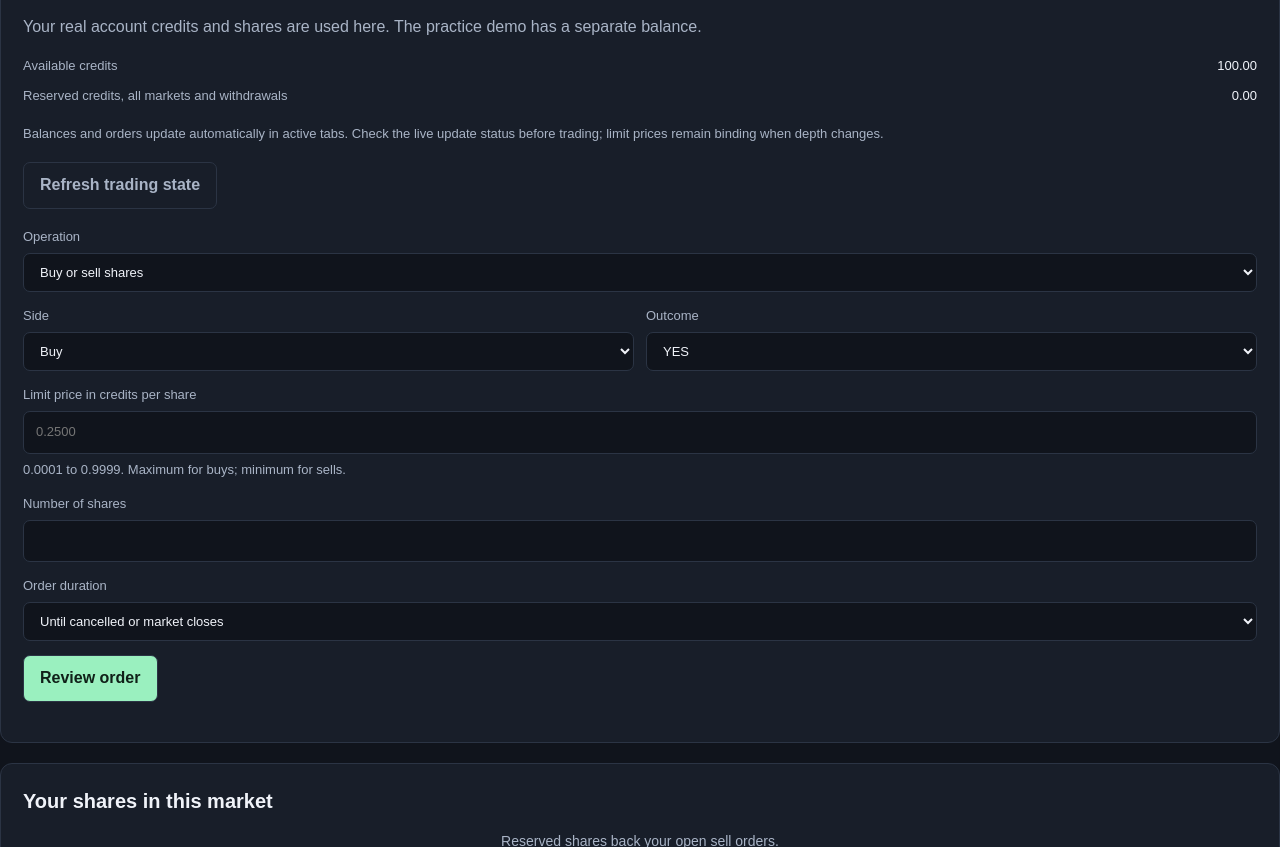
Scenario: participant trading controls › keeps the reference on auth/server/malformed responses and clears only a definite rejection
In the field: {"x": 640, "y": 432} [23,411,1257,454], type "0.2501"
In the number field labelled "Number of shares": {"x": 640, "y": 541} [23,520,1257,562], type "3"
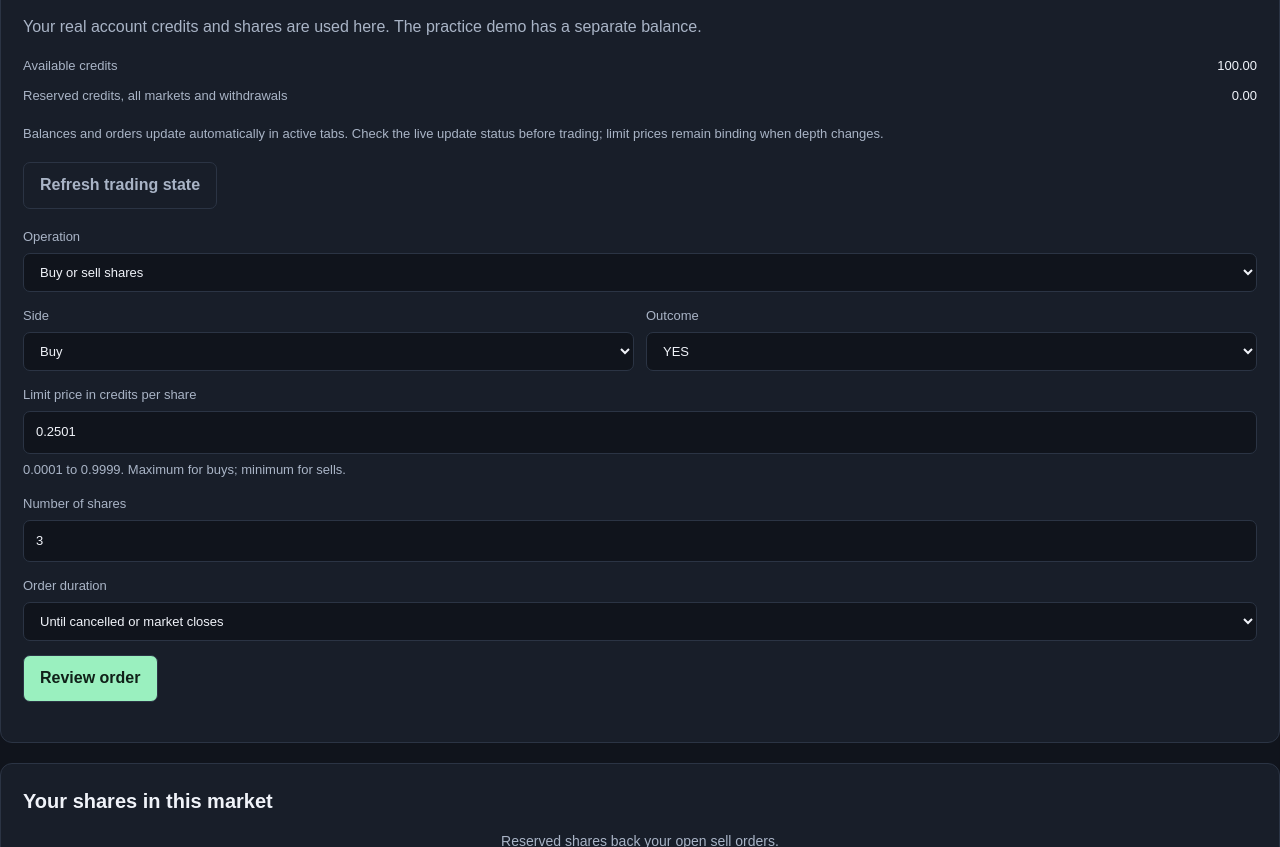
Click the button "Review order": {"x": 90, "y": 678} [23,655,158,702]
(page scrolled)
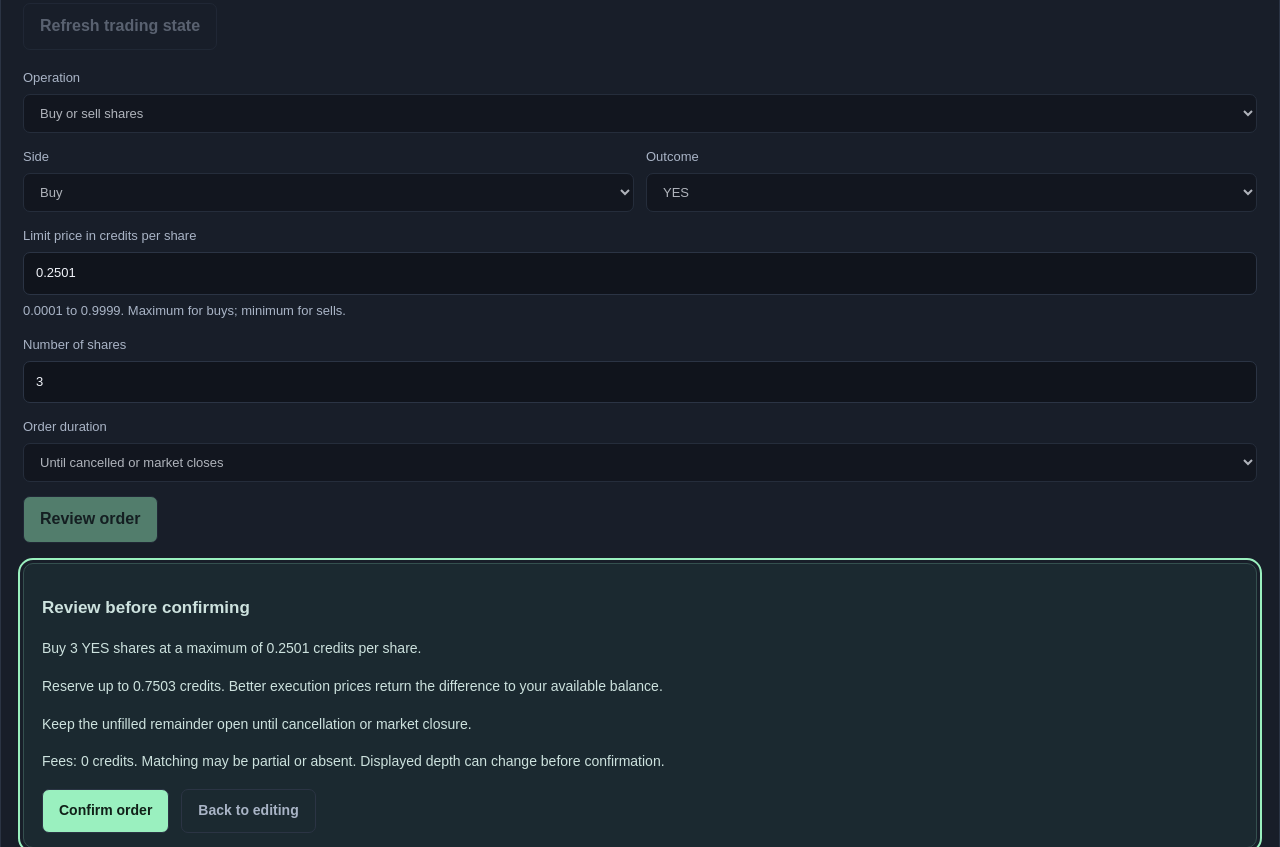
Click the button "Confirm order": {"x": 106, "y": 811} [42,789,169,833]
(page scrolled)
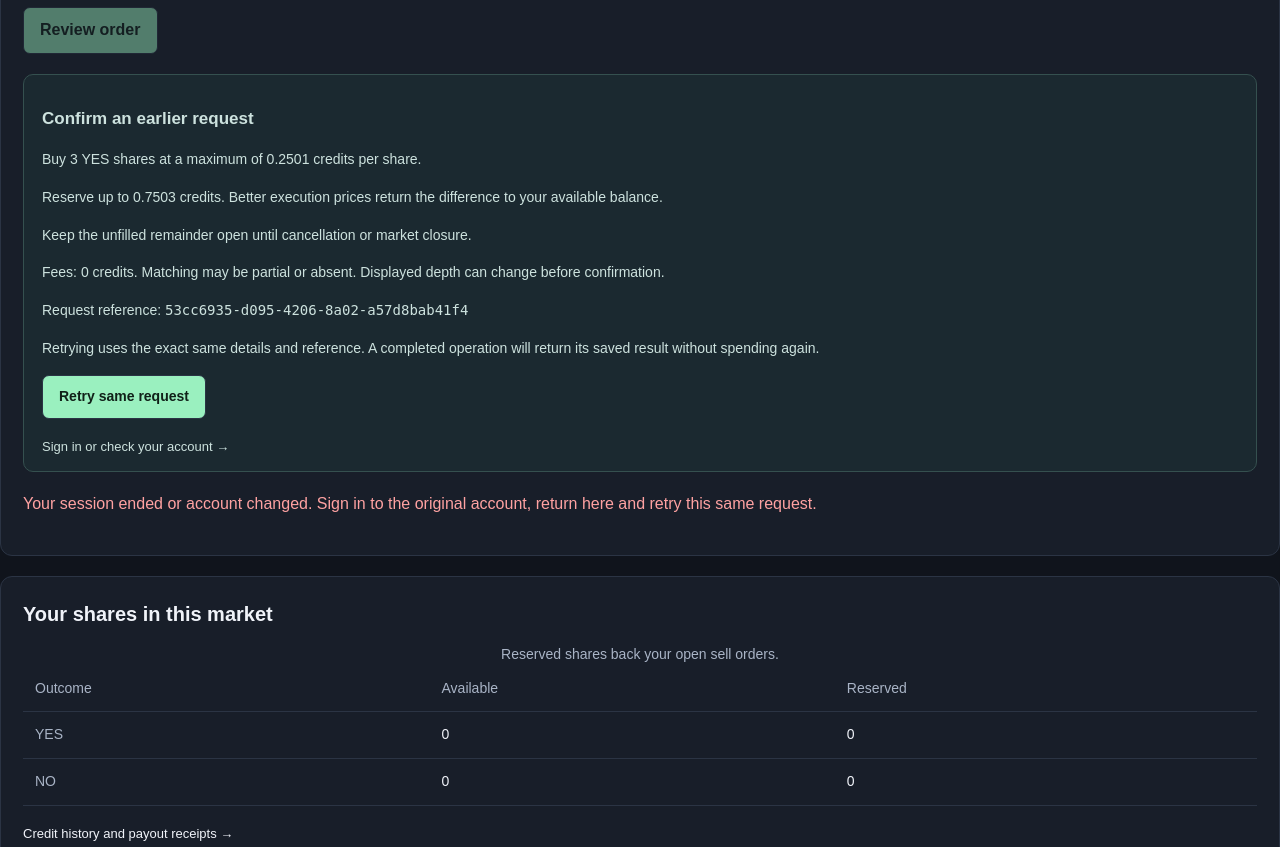
Click the button "Retry same request": {"x": 124, "y": 397} [42,375,206,419]
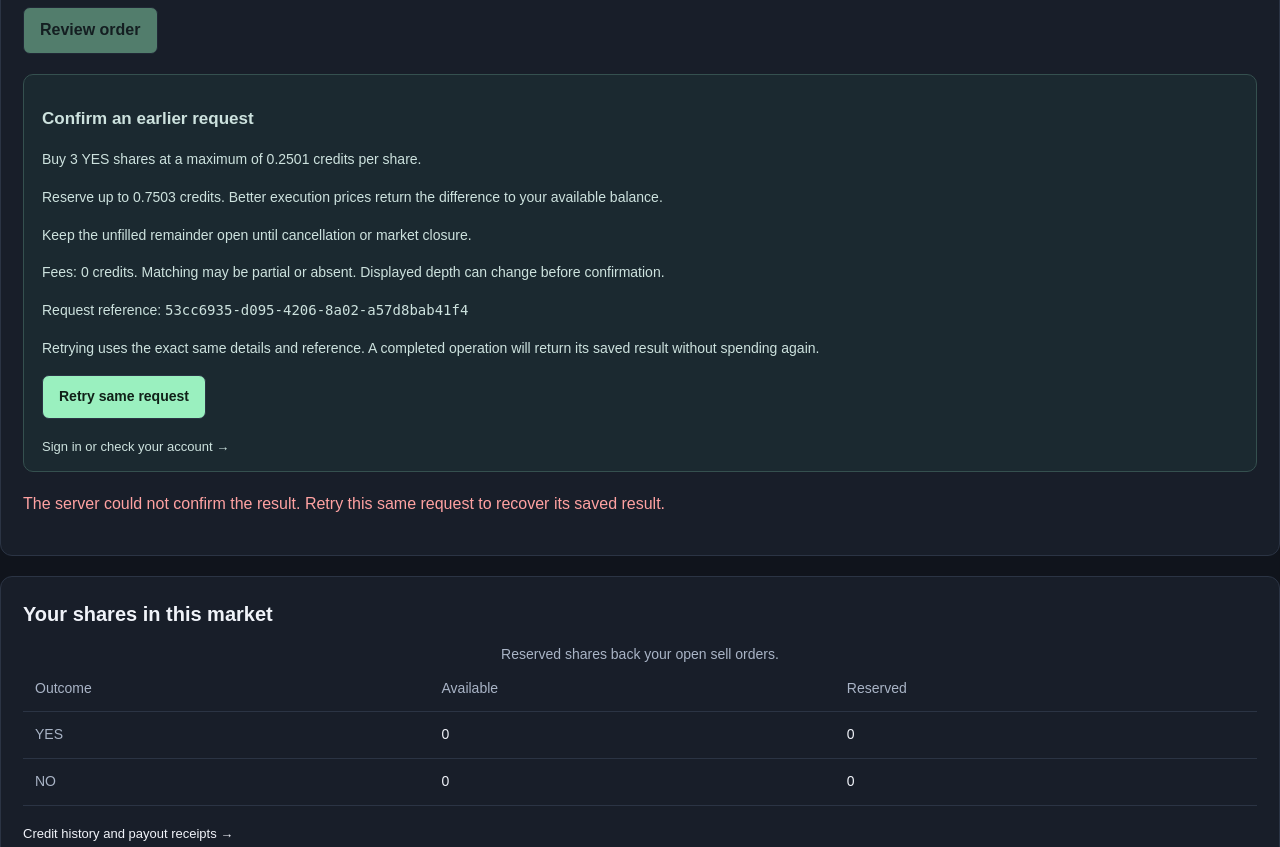
Click the button "Retry same request": {"x": 124, "y": 397} [42,375,206,419]
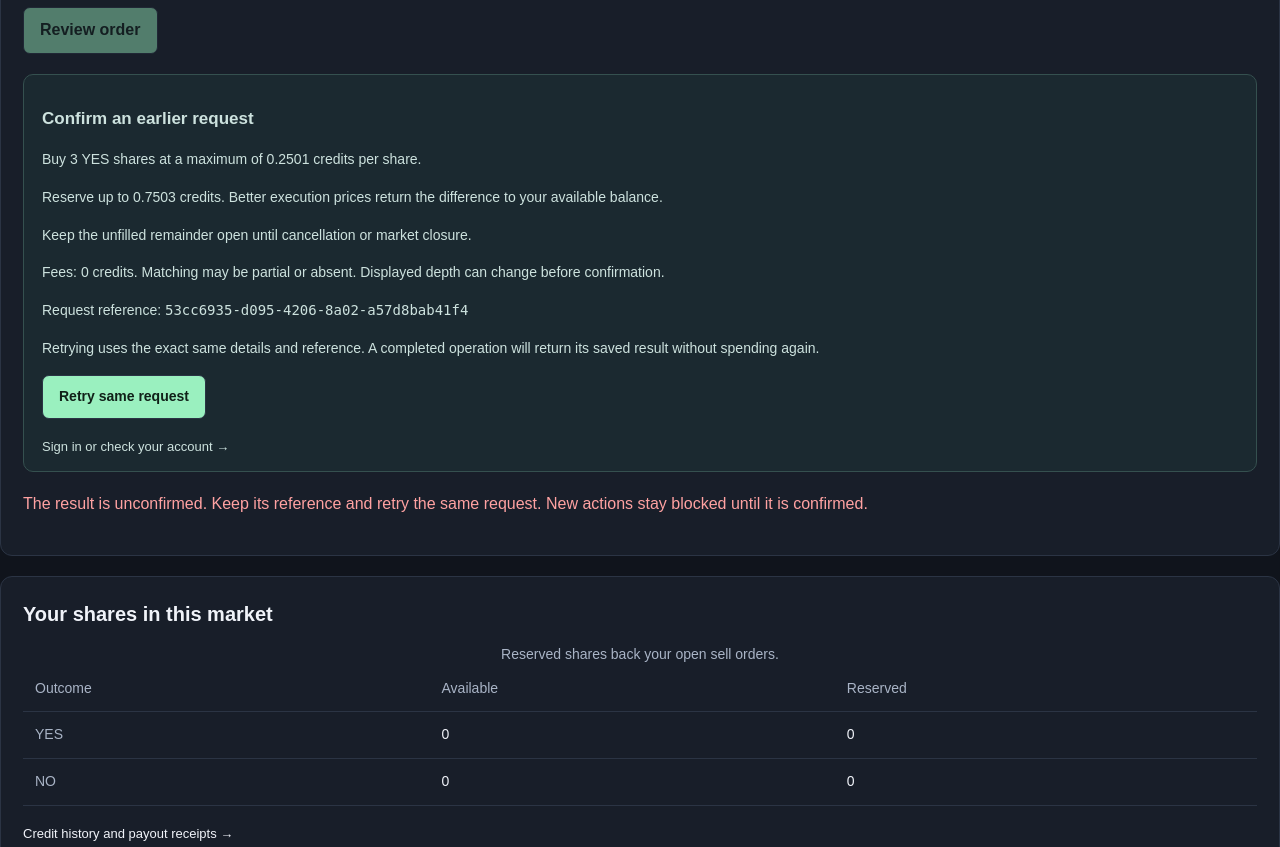
Click the button "Retry same request": {"x": 124, "y": 397} [42,375,206,419]
(page scrolled)
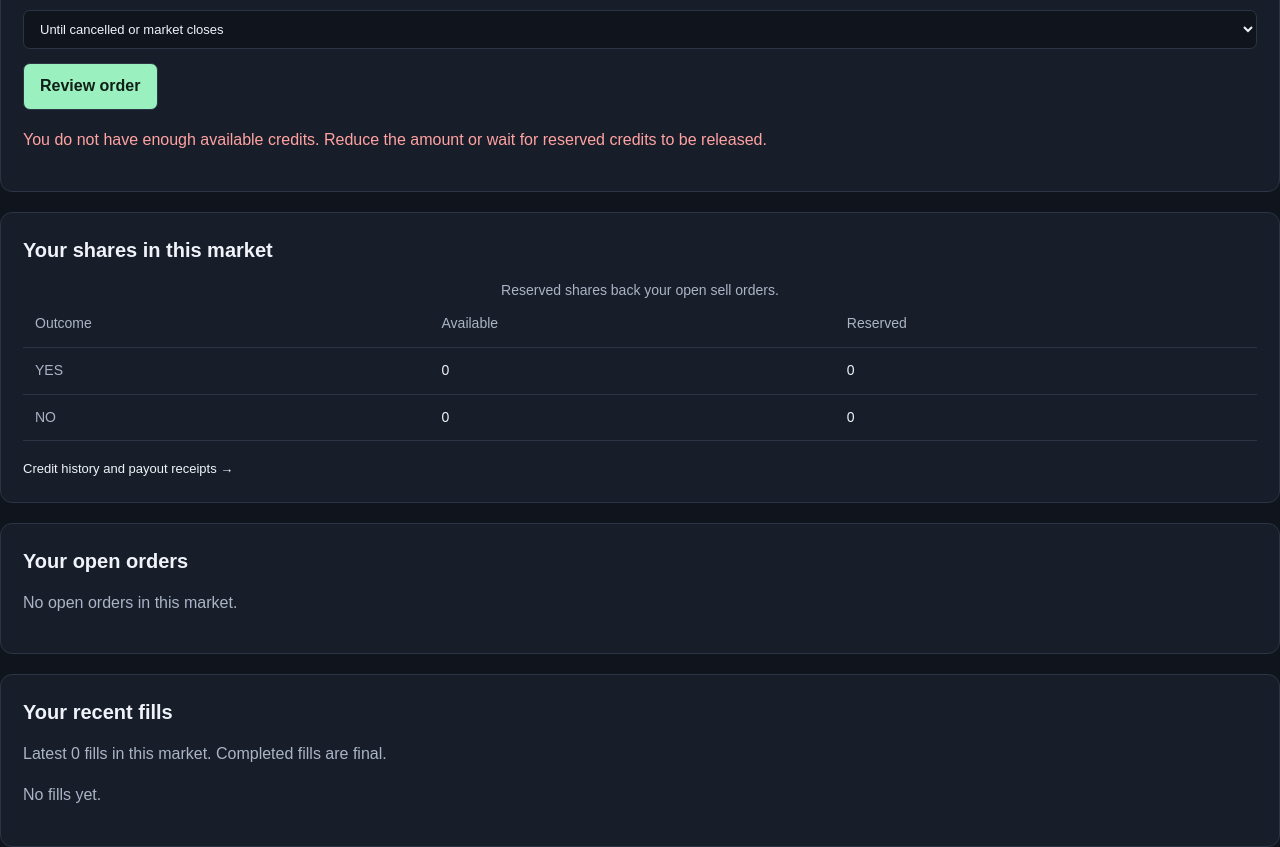
Result: the text "not have enough available credits" is shown at [23,131,767,148]
